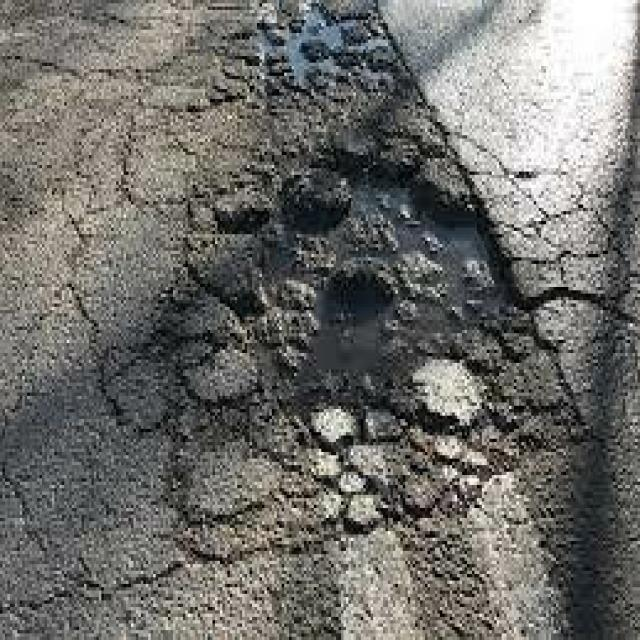Pothole: (158, 40, 623, 551)
